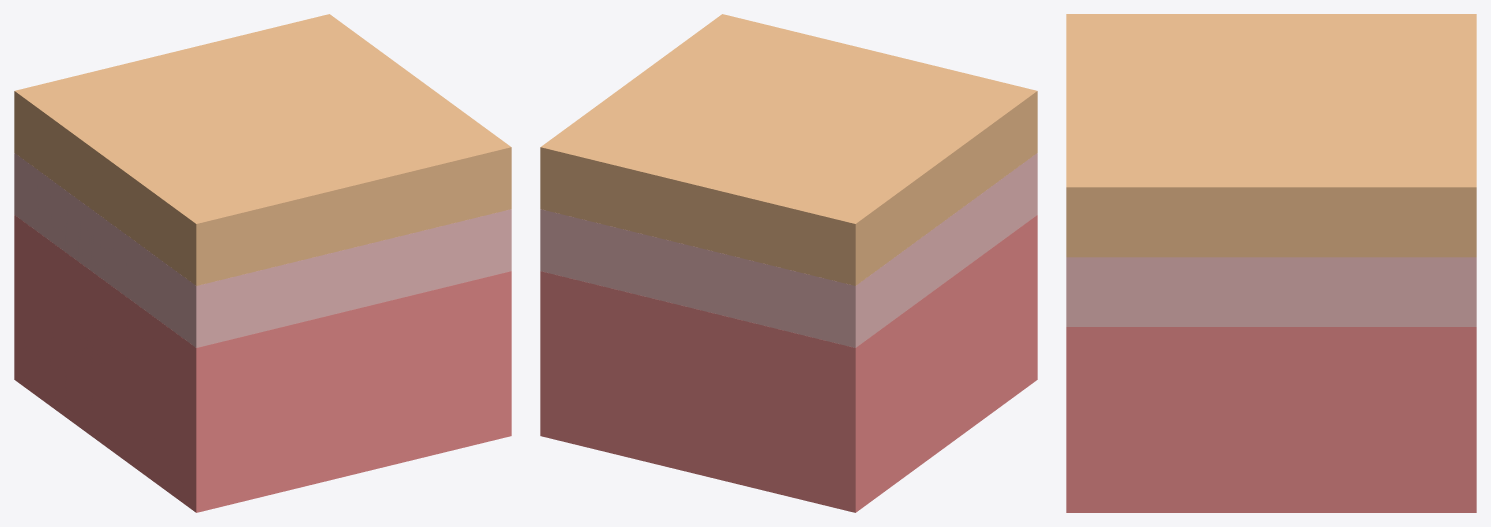
Rendered from gradient-sky.dae.
3 views of the same model, side by side, from view 1: azimuth 30°, elevation 25°; view 2: azimuth 150°, elevation 25°; view 3: azimuth 270°, elevation 25° (orthographic). The views are drawn at different scales.
Visible parts, largest first — view 1: group_2, group_0, group_1; view 2: group_2, group_0, group_1; view 3: group_2, group_0, group_1.
Boxes of the visible parts, x1,y1,x2,y2 form: group_2: [14, 14, 511, 285]; group_0: [14, 215, 511, 512]; group_1: [14, 153, 511, 347]; group_2: [540, 14, 1037, 285]; group_0: [540, 215, 1037, 512]; group_1: [540, 153, 1037, 347]; group_2: [1066, 14, 1476, 257]; group_0: [1066, 327, 1476, 512]; group_1: [1066, 257, 1476, 326].
Size of the model in its own units: 3937 by 3937 by 3449.
